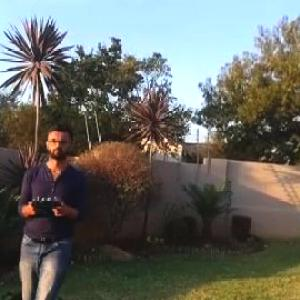follow: (12, 114, 90, 299)
